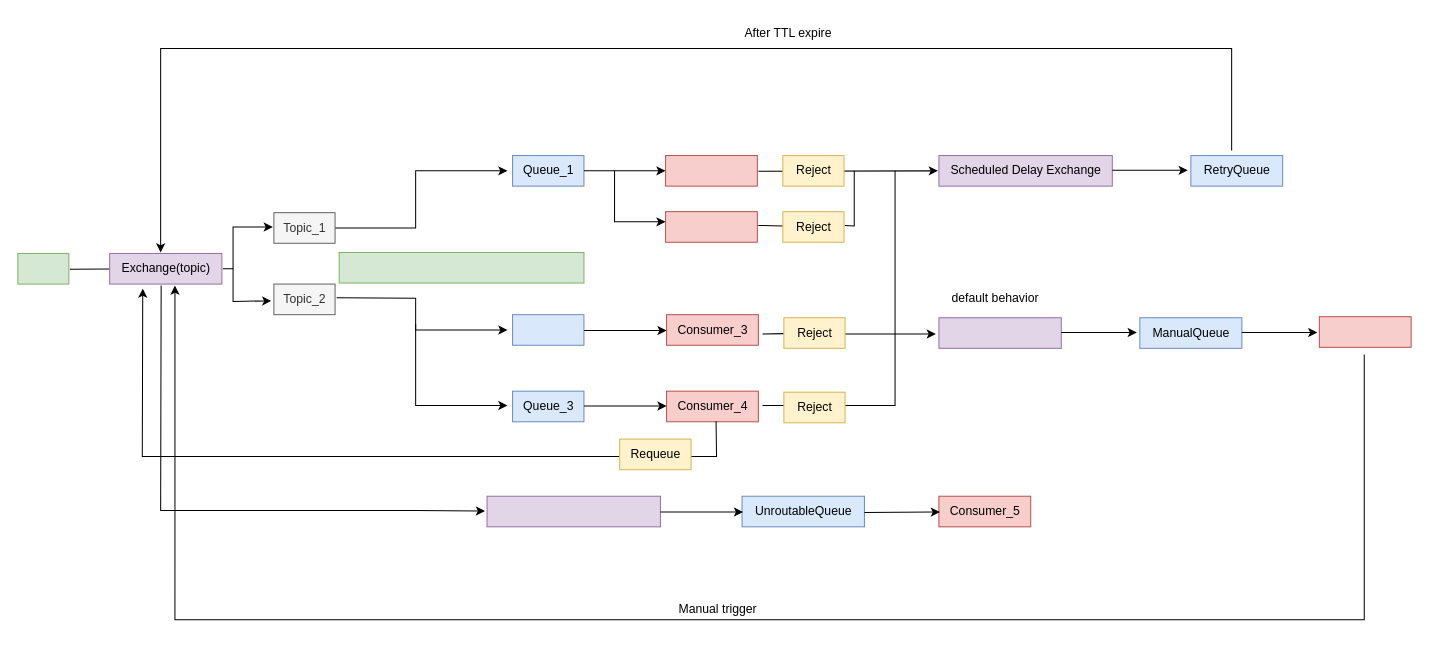
Image size: 1429x646. Some labels were removed from this diagram. Here are the shapes that lost their labels. From the top down, the centre of each, then its label:
pixel 711 170: Consumer_1
pixel 711 226: Consumer_2
pixel 43 268: Event
pixel 461 267: {appId}.{internal | external}.{event_name}
pixel 548 329: Queue_2
pixel 999 332: Manual Exchange
pixel 1364 331: Consumer_6
pixel 573 511: Alternate Exchange(fanout)
